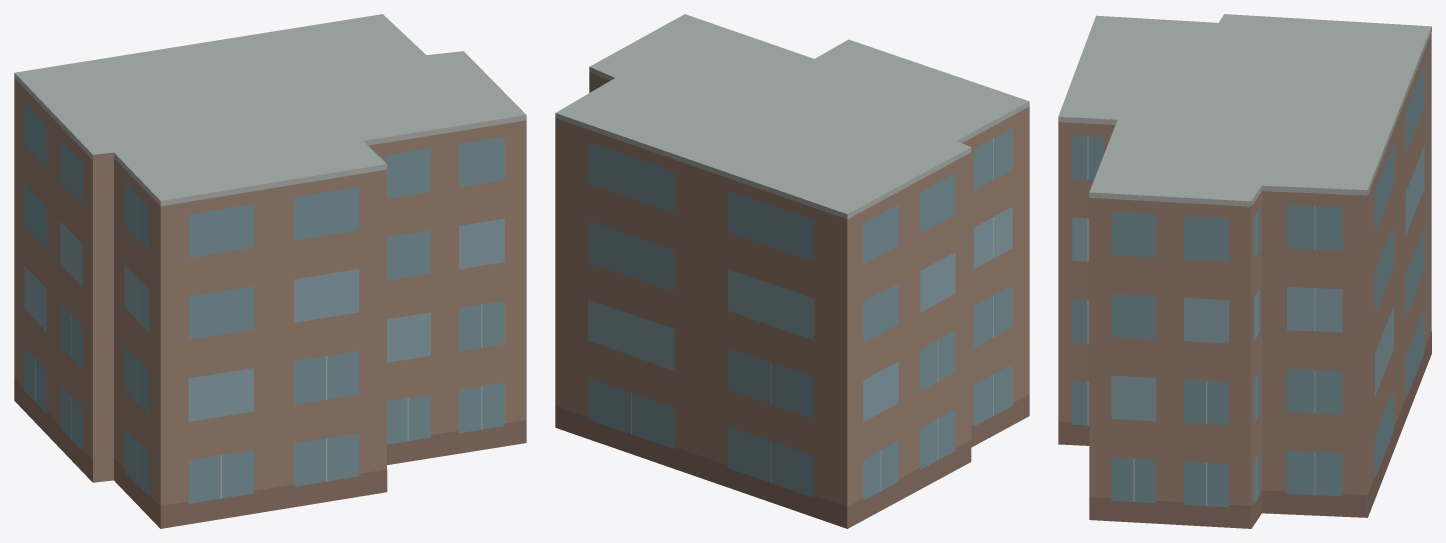
The model's file is survey-upis-32997156.glb.
3 views of the same model, side by side, from view 1: azimuth 30°, elevation 25°; view 2: azimuth 150°, elevation 25°; view 3: azimuth 270°, elevation 25° (orthographic). The views are drawn at different scales.
Parts seen in each view (by area): view 1: survey-upis-32997156.tmp; view 2: survey-upis-32997156.tmp; view 3: survey-upis-32997156.tmp.
Part boxes in pixels (bbox=[...]): survey-upis-32997156.tmp: bbox=[14, 14, 526, 528]; survey-upis-32997156.tmp: bbox=[555, 14, 1029, 528]; survey-upis-32997156.tmp: bbox=[1058, 14, 1431, 528].
Size of the model in its own units: 18.23 by 14.85 by 15.36.
